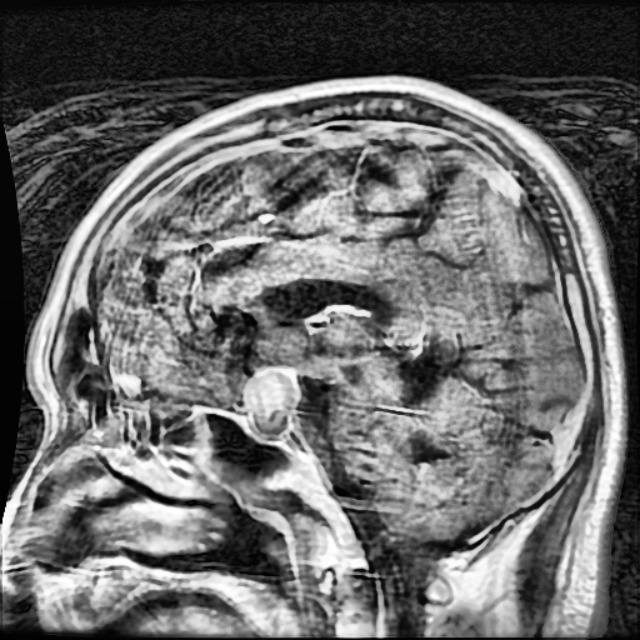Pituitary: (245, 367, 295, 427)
